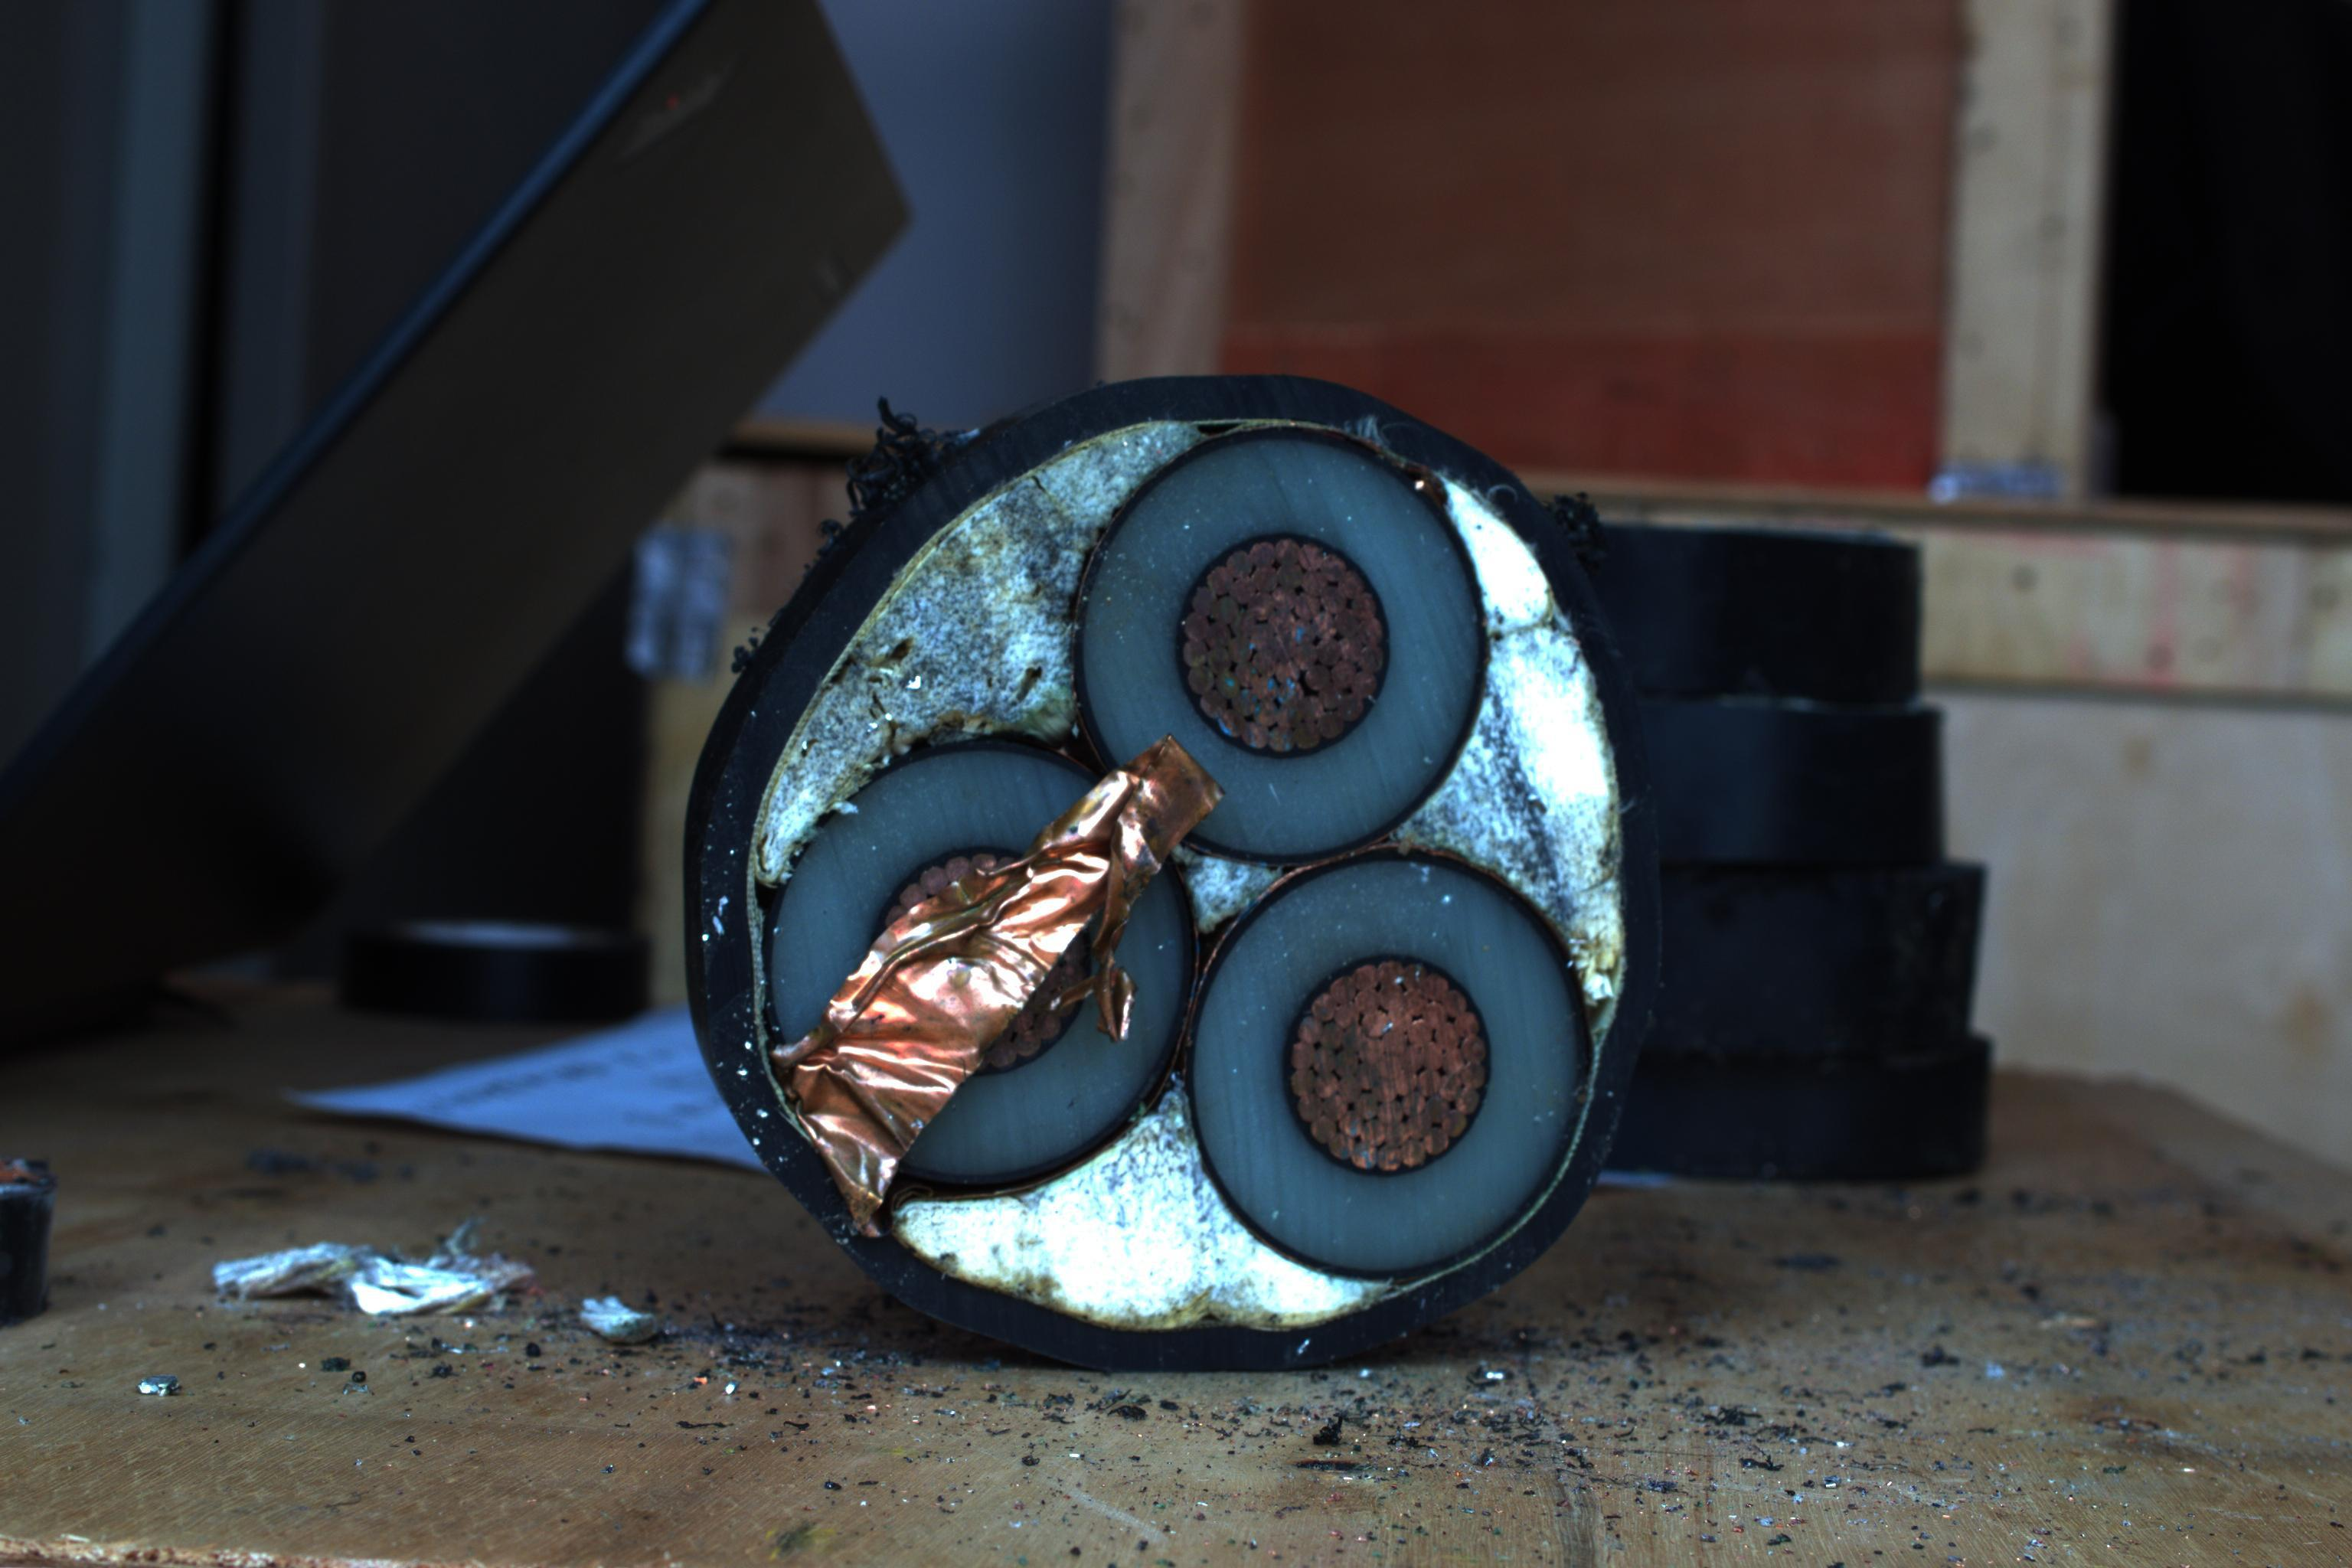ZA_YJV_26_35kV_3x400: (677, 367, 1671, 1367)
